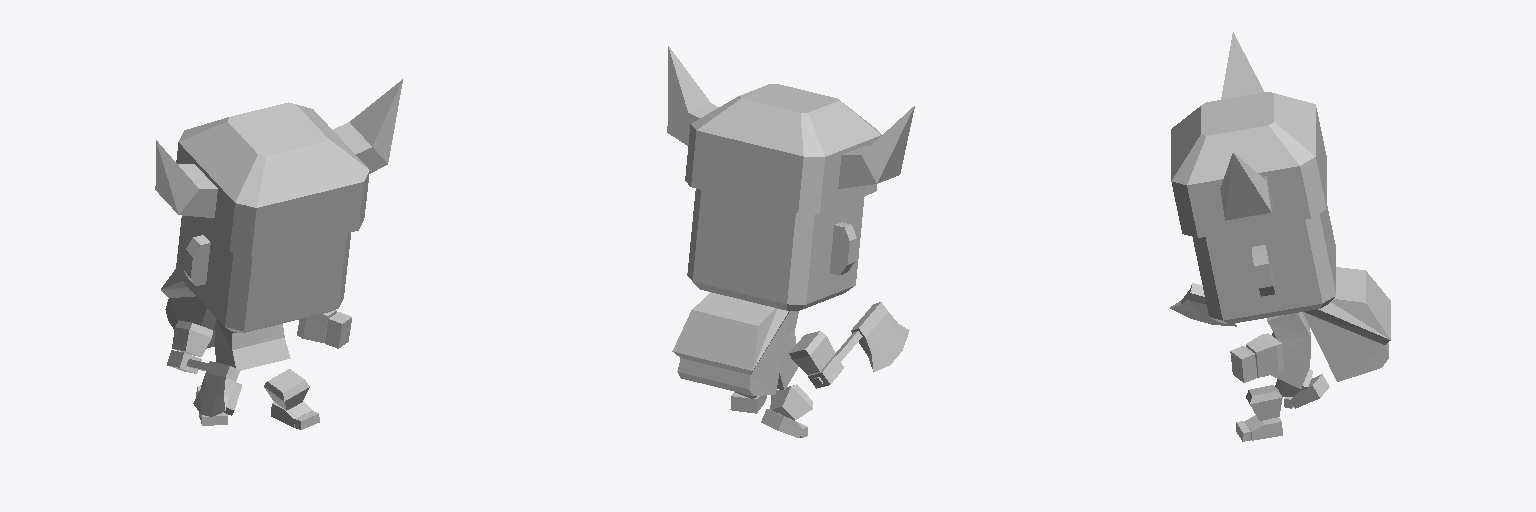
Rendered from mini_knight_000015.obj.
The picture shows the model from 3 angles: view 1: azimuth 30°, elevation 25°; view 2: azimuth 150°, elevation 25°; view 3: azimuth 270°, elevation 25°; orthographic projection.
Visible parts, largest first — view 1: cap_Object01_Material__3, Mesh_objheadusOBJexport_Material, axe_Object02_Material__3, back_Object03_Material__3; view 2: cap_Object01_Material__3, Mesh_objheadusOBJexport_Material, back_Object03_Material__3, axe_Object02_Material__3; view 3: cap_Object01_Material__3, Mesh_objheadusOBJexport_Material, back_Object03_Material__3, axe_Object02_Material__3.
Boxes of the visible parts, box(x1,y1,x2,y2) form: cap_Object01_Material__3: box(155, 79, 402, 256); Mesh_objheadusOBJexport_Material: box(167, 216, 351, 429); axe_Object02_Material__3: box(186, 359, 239, 416); back_Object03_Material__3: box(161, 269, 215, 348); cap_Object01_Material__3: box(667, 46, 914, 213); Mesh_objheadusOBJexport_Material: box(687, 189, 864, 437); back_Object03_Material__3: box(672, 292, 789, 395); axe_Object02_Material__3: box(813, 302, 909, 384); cap_Object01_Material__3: box(1171, 32, 1326, 237); Mesh_objheadusOBJexport_Material: box(1193, 206, 1335, 441); back_Object03_Material__3: box(1303, 267, 1390, 381); axe_Object02_Material__3: box(1170, 283, 1236, 326).
Bounding box in the file's own units: 1.94 × 2.46 × 1.51.